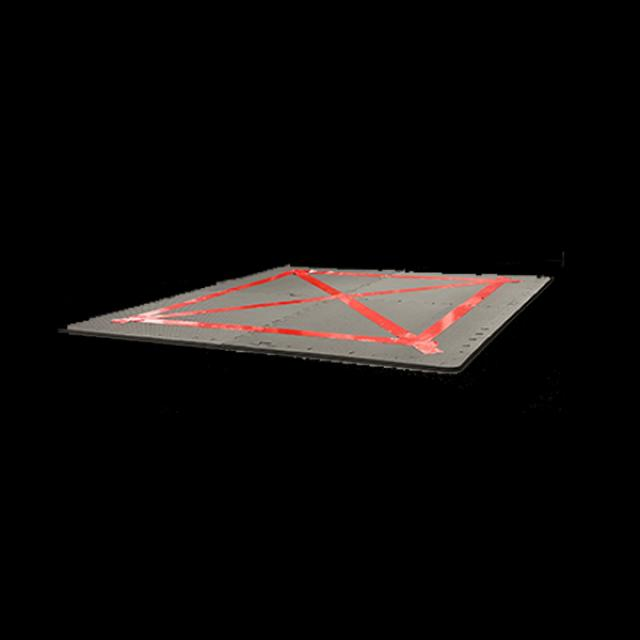landingPads: (66, 262, 559, 374)
